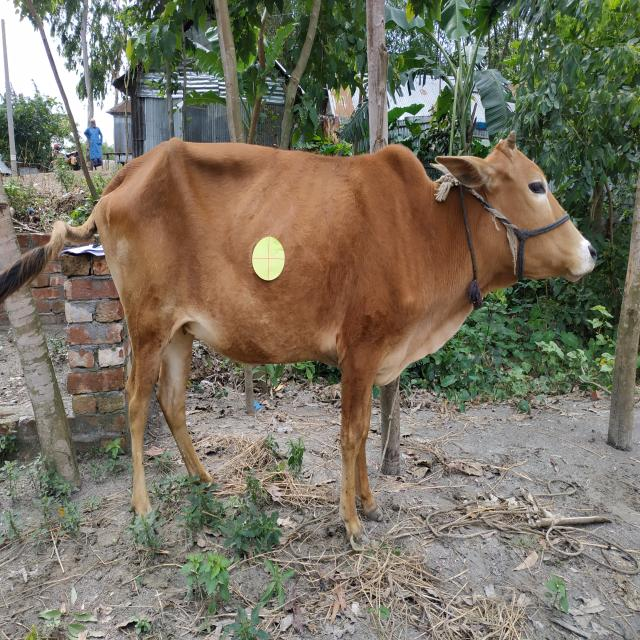badan_sapi: (104, 148, 429, 364)
sapi: (93, 125, 597, 569)
